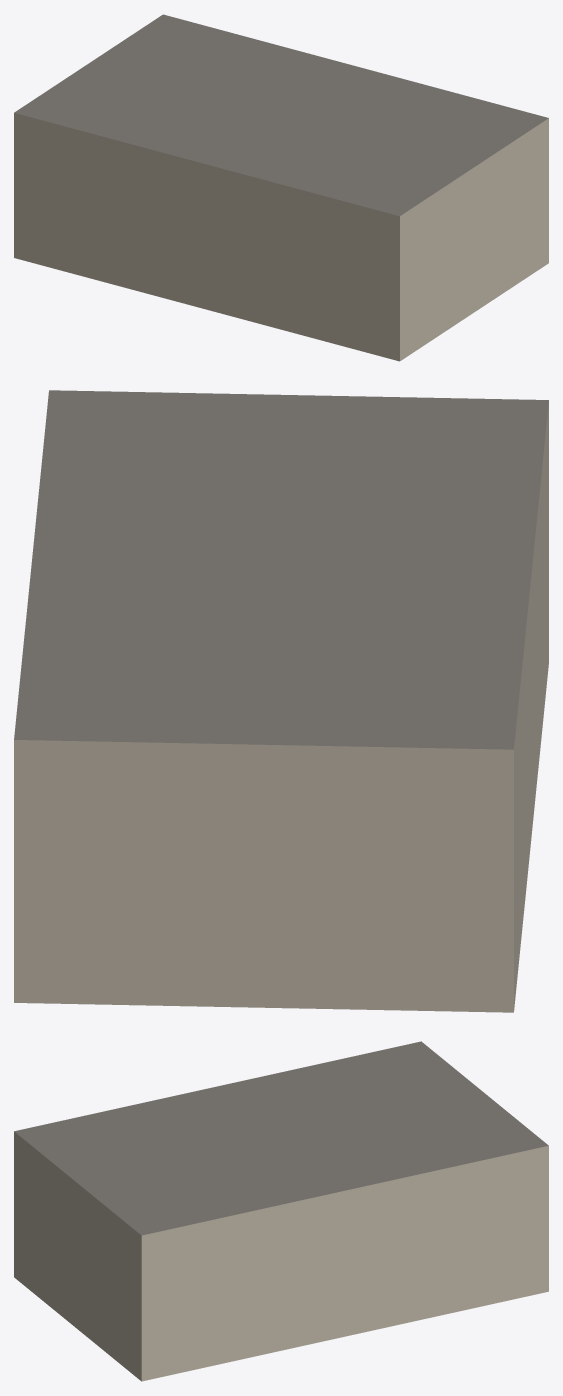
3 views of the same model, one above another, from view 1: azimuth 30°, elevation 25°; view 2: azimuth 150°, elevation 25°; view 3: azimuth 270°, elevation 25° (orthographic). The views are drawn at different scales.
Visible parts, largest first — view 1: HP-w858839019; view 2: HP-w858839019; view 3: HP-w858839019.
Boxes of the visible parts, x1,y1,x2,y2 form: HP-w858839019: [14, 14, 548, 361]; HP-w858839019: [14, 390, 548, 1012]; HP-w858839019: [14, 1041, 548, 1381].
Size of the model in its own units: 51.35 by 18 by 59.78.
